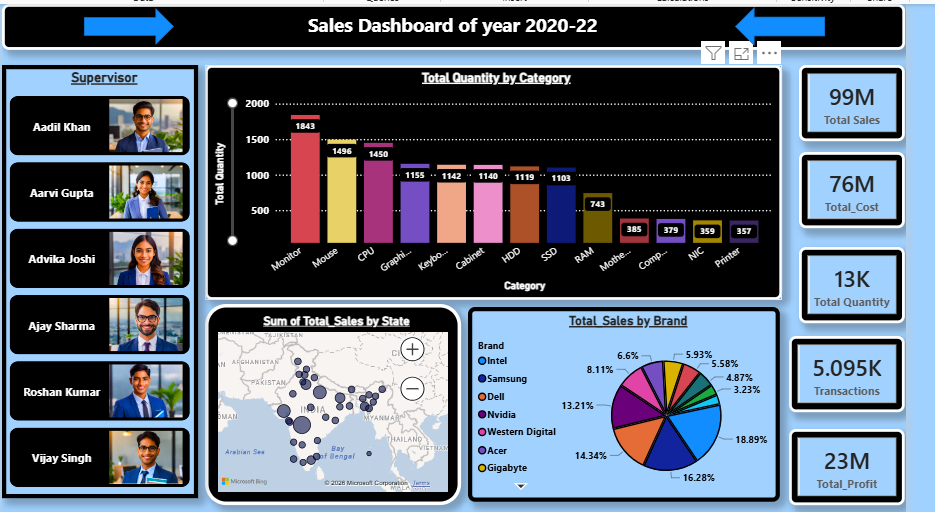

Layout of this report page (visuals, bound fields, positions):
{"tool":"powerbi","page":{"name":"Page 1","canvas":[1280,720],"ordinal":0},"visuals":[{"type":"textbox","title":"hgjfj","box":[0,0,1280,65],"z":0},{"type":"cardVisual","fields":{"Data":["Sum(Sales_Data.Total_Sales)"]},"box":[1129.6,86.5,150.2,107.7],"z":1000},{"type":"clusteredColumnChart","fields":{"Category":["Sales_Data.Category"],"Y":["Sum(Sales_Data.Quantity)"]},"box":[275,119.1,827.7,333.1],"z":2000},{"type":"cardVisual","fields":{"Data":["Sum(Sales_Data.Quantity)"]},"box":[1129.6,344.4,150.2,107.7],"z":3000},{"type":"cardVisual","fields":{"Data":["CountNonNull(Sales_Data.Order_Number)"]},"box":[1115.4,470.6,164.4,107.7],"z":4000},{"type":"cardVisual","fields":{"Data":["Sales_Data.Total_Profit"]},"box":[1115.4,602.4,164.4,107.7],"z":5000},{"type":"cardVisual","fields":{"Data":["Sum(Sales_Data.Total_Cost)"]},"box":[1129.6,209.8,150.2,107.7],"z":6000},{"type":"pieChart","title":"Total_Sales by Brand","fields":{"Y":["Sum(Sales_Data.Total_Sales)"],"Category":["Sales_Data.Brand"]},"box":[660.5,429.4,442.2,276.4],"z":7000},{"type":"map","fields":{"Category":["State_list.State"],"Size":["Sum(Sales_Data.Total_Sales)"]},"box":[287.7,425.2,362.8,284.9],"z":8000},{"type":"shape","box":[116.2,5.7,127.6,52.4],"z":9000},{"type":"shape","box":[1038.9,4.3,127.6,55.3],"z":10000},{"type":"advancedSlicerVisual","fields":{"Values":["Supervisor.Supervisor"]},"box":[0,86.5,277.8,613.7],"z":11000}]}

Visuals, with their boxes in screenshot pixels (x1, y1, x2, y2), scaled from the page's 1280x720 canvas onto the 935x512 screenshot:
"hgjfj" textbox: 0,0,934,46
cardVisual - Sum(Sales_Data.Total_Sales): 825,62,934,138
clusteredColumnChart - Sales_Data.Category x Sum(Sales_Data.Quantity): 201,85,805,322
cardVisual - Sum(Sales_Data.Quantity): 825,245,934,321
cardVisual - CountNonNull(Sales_Data.Order_Number): 815,335,934,411
cardVisual - Sales_Data.Total_Profit: 815,428,934,505
cardVisual - Sum(Sales_Data.Total_Cost): 825,149,934,226
"Total_Sales by Brand" pieChart: 482,305,805,502
map - State_list.State x Sum(Sales_Data.Total_Sales): 210,302,475,505
shape: 85,4,178,41
shape: 759,3,852,42
advancedSlicerVisual - Supervisor.Supervisor: 0,62,203,498
